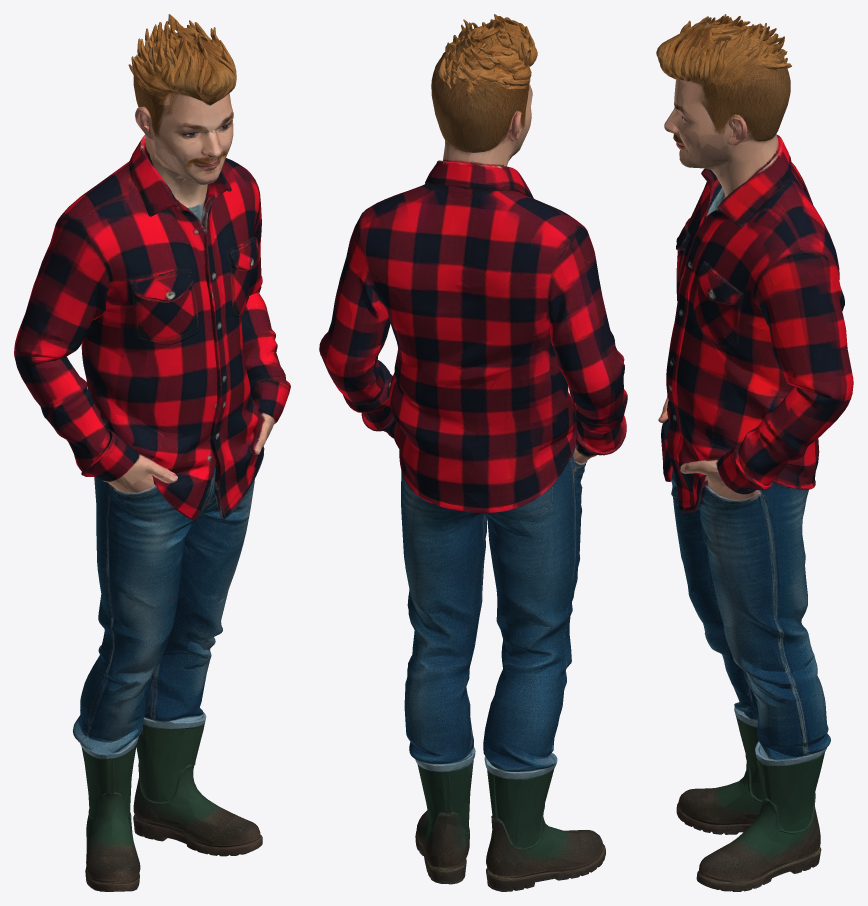
Rendered from wildman-base.glb.
3 renders of one model, left to right at view 1: azimuth 30°, elevation 25°; view 2: azimuth 150°, elevation 25°; view 3: azimuth 270°, elevation 25°, orthographic.
Bounding box in the file's own units: 0.64 × 1.9 × 0.4042.
Materials: 1 (1 with a texture image).
